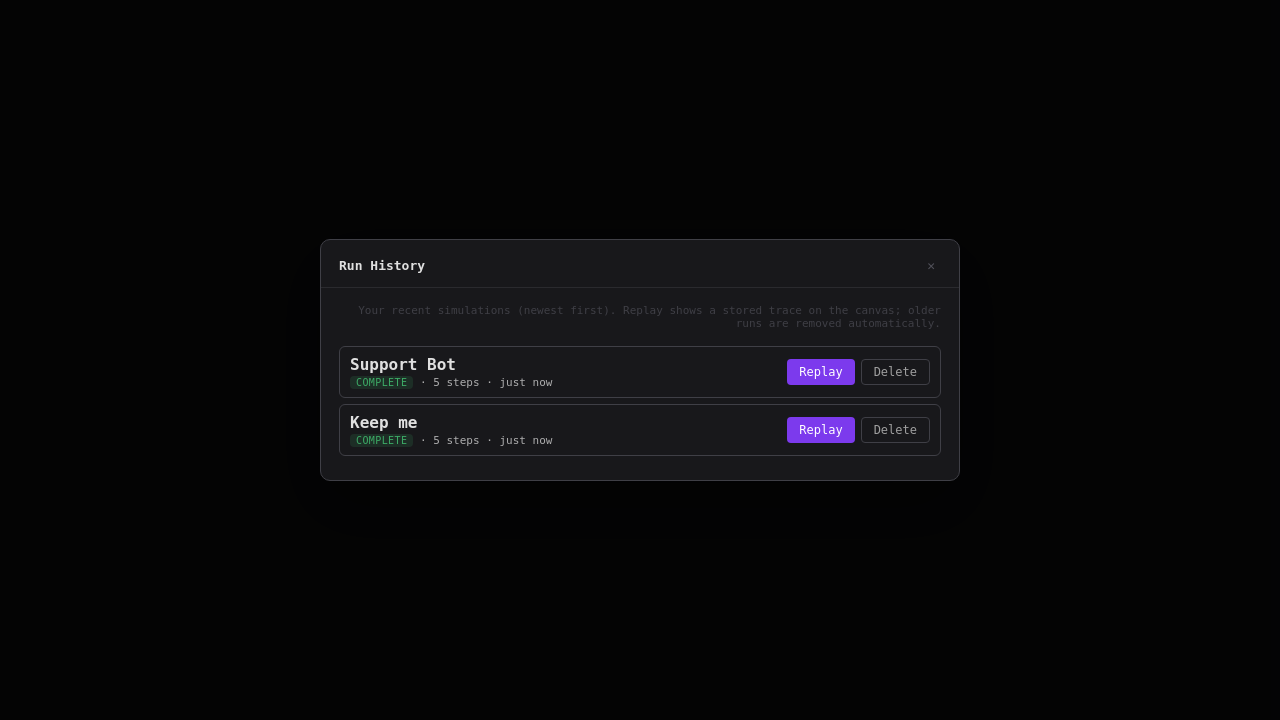
Test: RunHistoryModal › deletes a run and removes it from the list
Click the button with aria-label "Delete run of Support Bot".
click(895, 372)  # box [861, 359, 930, 385]
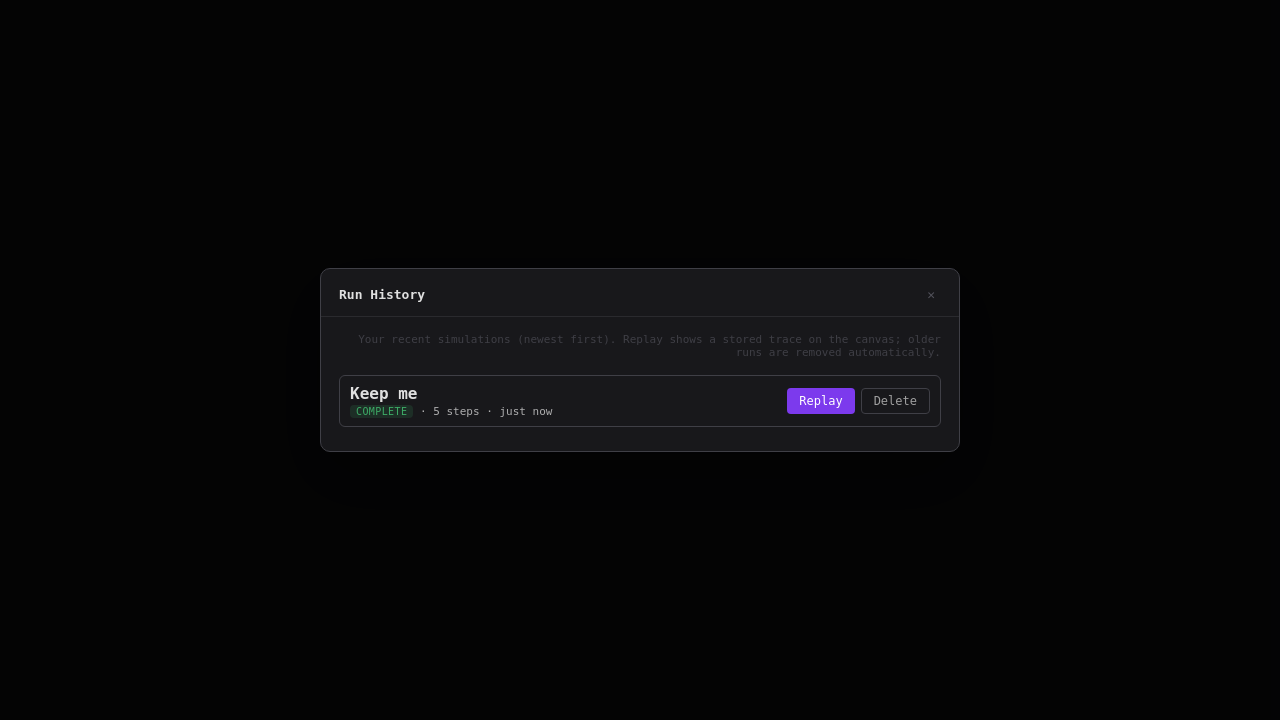
Expected: the text "Keep me" is shown, [350, 384, 417, 403]
Result: the text "Support Bot" is gone
